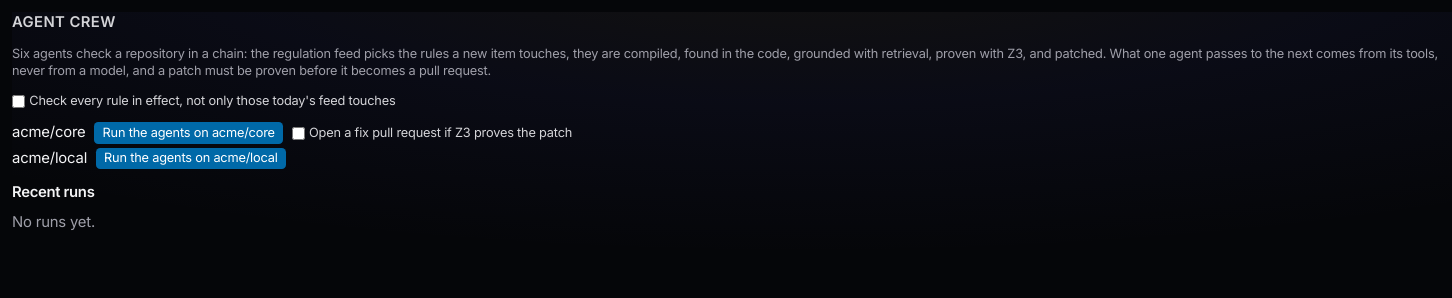
Test: AgentCrewPanel › shows why a run was refused
Click the button "Run the agents on acme/local" at (191,159), box [96,148,286,169]
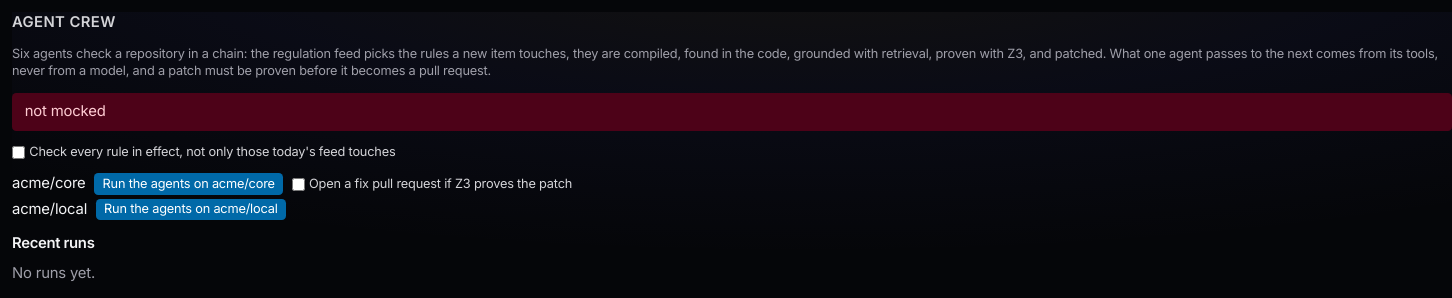
Expected: the message reads "not mocked", [25,102,106,120]
